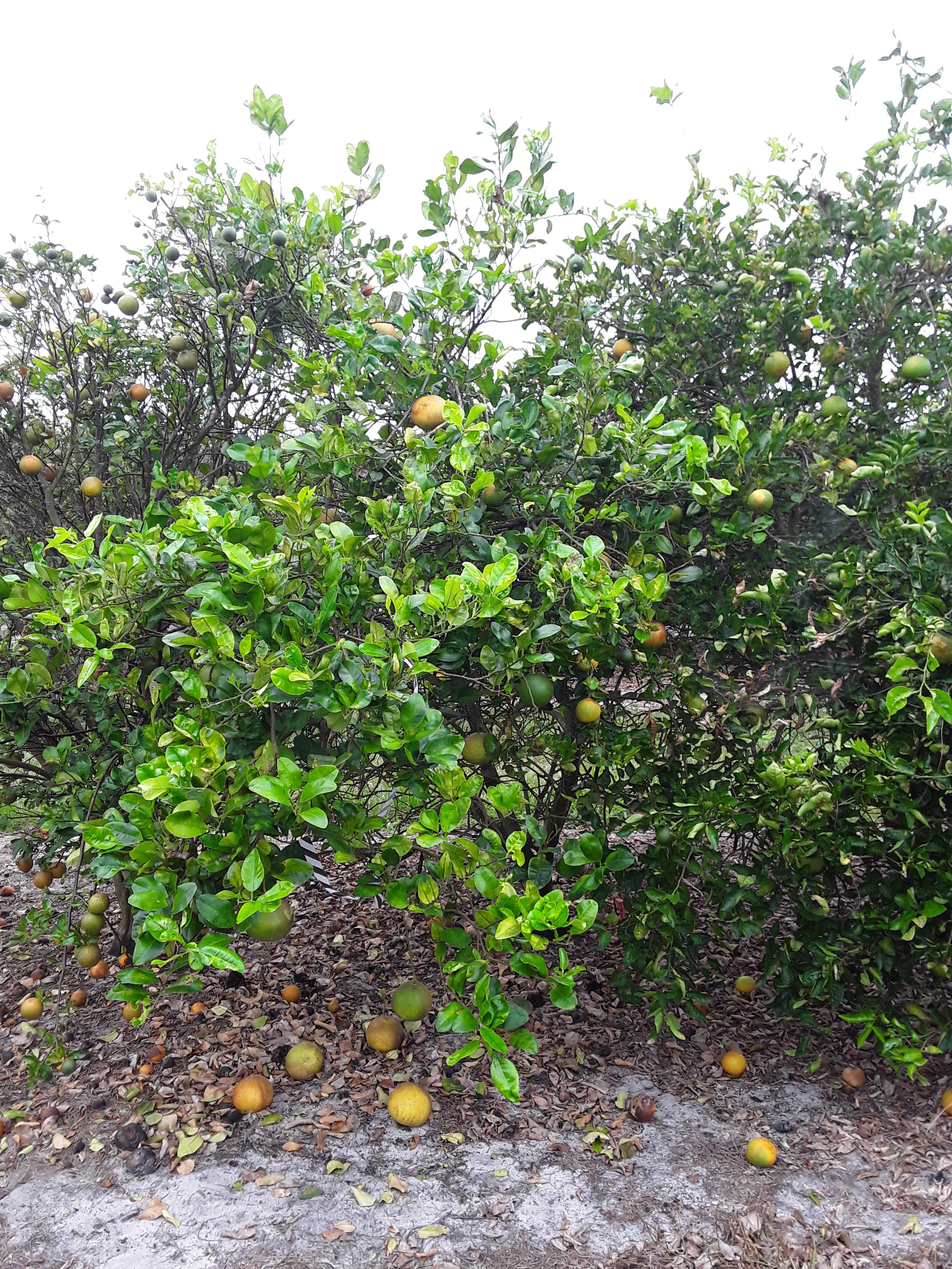fruit_on_ground: (243, 895, 295, 943), (390, 978, 434, 1021), (408, 392, 449, 431), (515, 670, 556, 709), (460, 729, 500, 767), (361, 315, 402, 347), (632, 615, 668, 649), (744, 484, 777, 516), (900, 351, 934, 382), (761, 348, 792, 380), (308, 503, 342, 532), (573, 694, 603, 725), (573, 645, 605, 673), (738, 701, 768, 730), (820, 393, 852, 420), (478, 482, 508, 510), (658, 499, 687, 527), (787, 317, 816, 345), (19, 417, 49, 444), (921, 251, 951, 278), (818, 341, 848, 368), (73, 941, 102, 968), (18, 994, 45, 1021), (78, 911, 105, 936), (79, 473, 106, 498), (610, 336, 636, 361), (174, 346, 200, 371), (17, 452, 43, 476), (835, 455, 860, 479), (5, 285, 29, 310), (116, 292, 141, 316), (82, 309, 108, 332), (612, 645, 638, 668), (566, 252, 590, 276), (38, 459, 62, 483), (66, 382, 92, 404), (653, 825, 677, 848), (86, 891, 110, 914), (127, 380, 151, 403), (166, 331, 191, 353), (3, 747, 25, 770), (45, 348, 68, 369), (0, 784, 19, 809), (47, 858, 69, 879), (57, 1054, 78, 1075), (710, 278, 732, 298), (14, 851, 34, 873), (218, 224, 239, 244), (32, 869, 52, 889), (162, 243, 182, 262), (142, 186, 162, 205), (41, 244, 60, 263), (269, 227, 288, 246), (75, 285, 95, 303), (0, 378, 16, 400), (216, 290, 233, 308), (358, 281, 376, 297), (0, 310, 13, 329), (111, 290, 126, 306), (9, 246, 25, 261), (98, 293, 113, 306), (101, 282, 115, 295)
fruit_on_tree: (386, 1080, 434, 1129), (284, 1038, 327, 1080), (231, 1073, 275, 1112), (363, 1013, 406, 1052), (743, 1134, 779, 1170), (124, 1145, 160, 1176), (627, 1092, 658, 1124), (719, 1047, 749, 1080), (112, 1123, 143, 1149), (840, 1064, 868, 1091), (732, 971, 759, 998), (120, 999, 145, 1022), (280, 981, 304, 1004), (36, 1104, 62, 1125), (88, 959, 110, 980), (939, 1083, 952, 1117), (145, 1044, 166, 1063), (68, 989, 89, 1008), (89, 1094, 109, 1111), (187, 1000, 208, 1016), (225, 1107, 243, 1125), (326, 998, 343, 1014), (137, 1061, 154, 1077), (1, 1047, 16, 1065), (116, 952, 131, 968), (30, 966, 46, 981), (0, 1115, 9, 1140), (37, 823, 53, 837), (70, 1140, 86, 1154), (2, 883, 16, 896), (0, 915, 10, 930)
